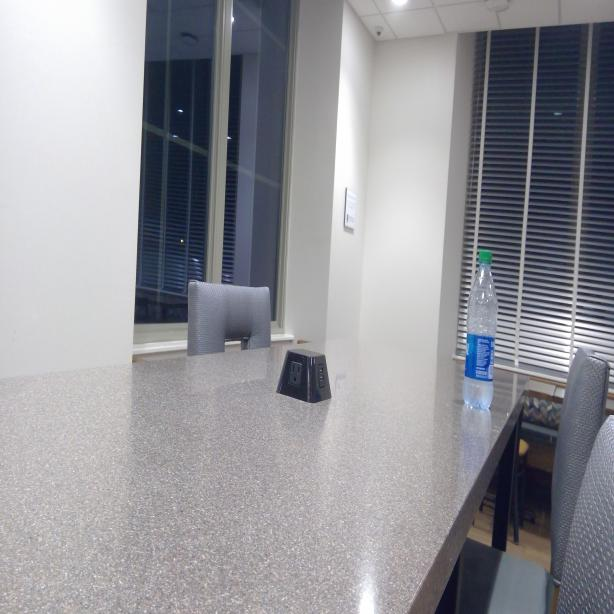typeb: (289, 358, 304, 385)
